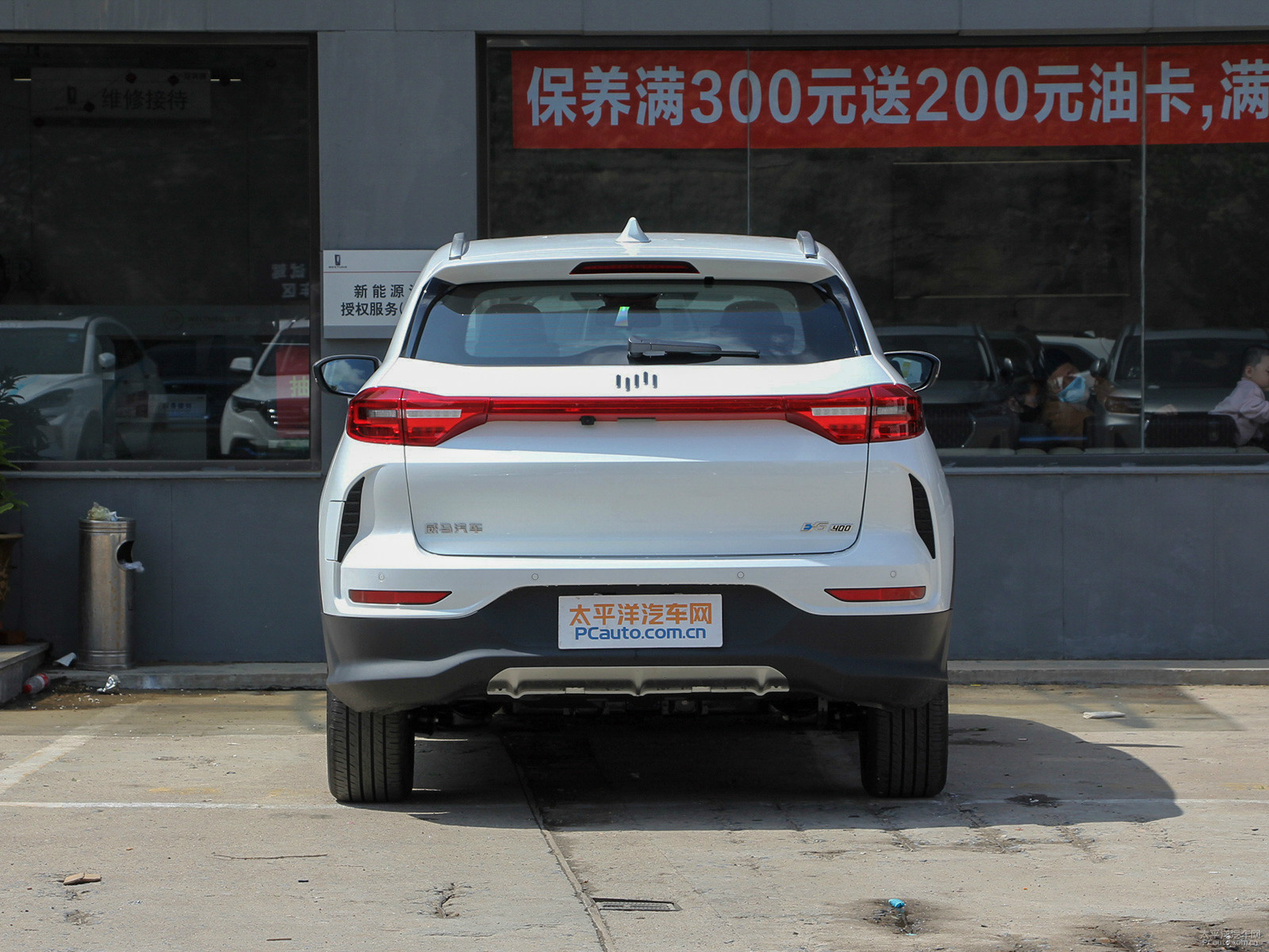WELTMEISTER: (616, 372, 657, 391)
